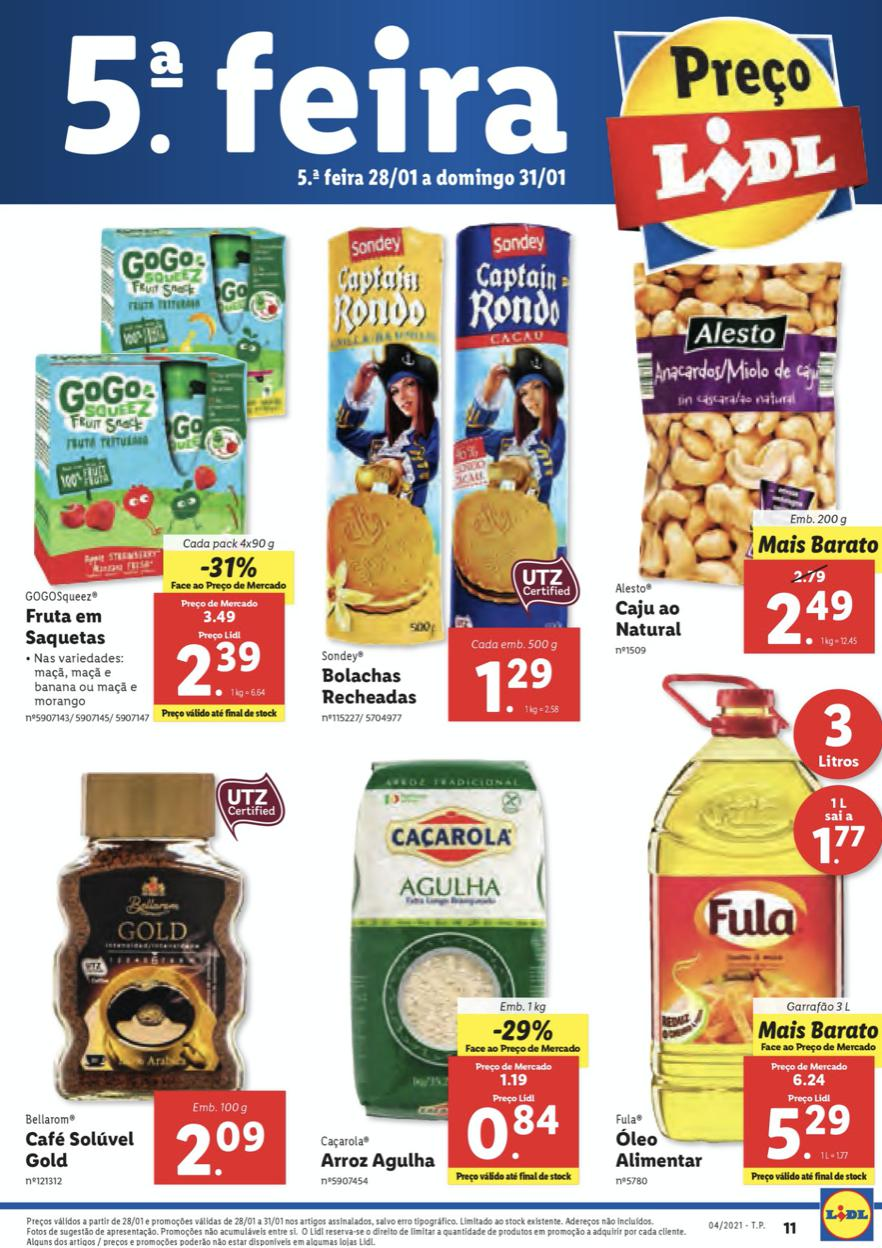name: (22, 1131, 144, 1172), (313, 665, 424, 709), (612, 1126, 710, 1172), (21, 603, 115, 649), (612, 594, 689, 643), (321, 1149, 439, 1172)
price: (462, 1099, 564, 1168), (759, 580, 859, 649), (162, 1122, 270, 1183), (172, 640, 279, 699), (764, 1103, 859, 1168), (470, 657, 569, 715)
product: (12, 209, 302, 737), (599, 659, 879, 1199), (309, 220, 592, 731), (7, 751, 304, 1192), (305, 749, 598, 1195), (601, 229, 858, 680)
promotion: (190, 551, 261, 580), (489, 1017, 558, 1046)
